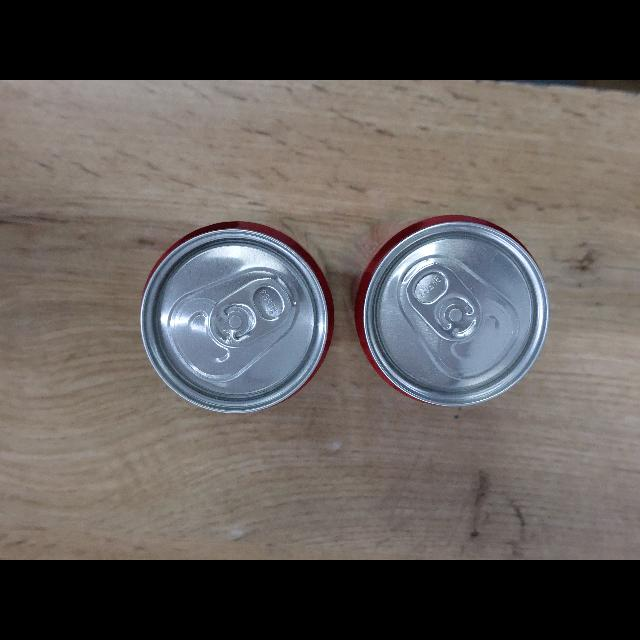coca_cola: (141, 222, 334, 413), (355, 216, 549, 406)
